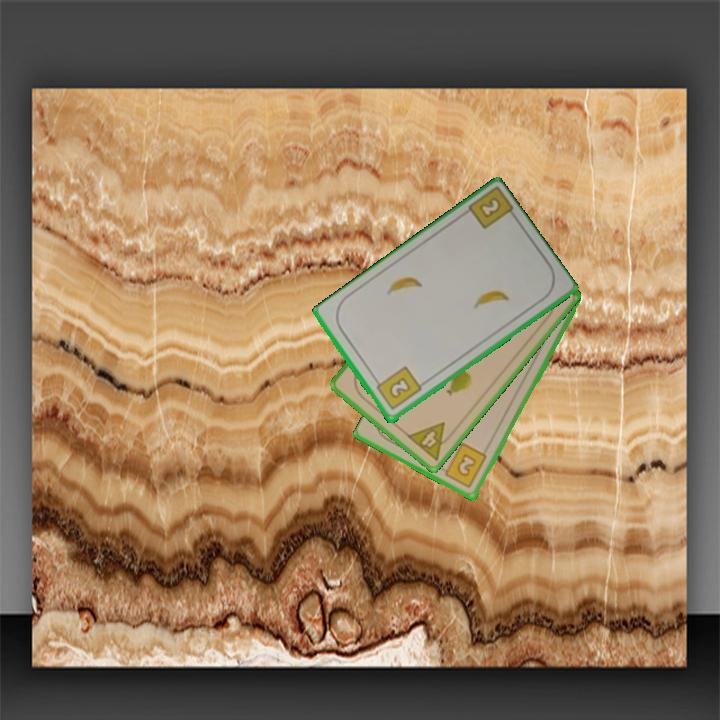2b: (437, 440, 490, 491), (371, 363, 424, 413), (475, 194, 504, 221)
4p: (403, 419, 458, 463)
